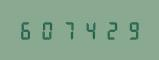four: (78, 20, 97, 40)
nine: (118, 20, 137, 40)
seven: (58, 20, 77, 40)
six: (17, 20, 36, 40)
two: (98, 20, 117, 40)
zero: (37, 20, 56, 40)
